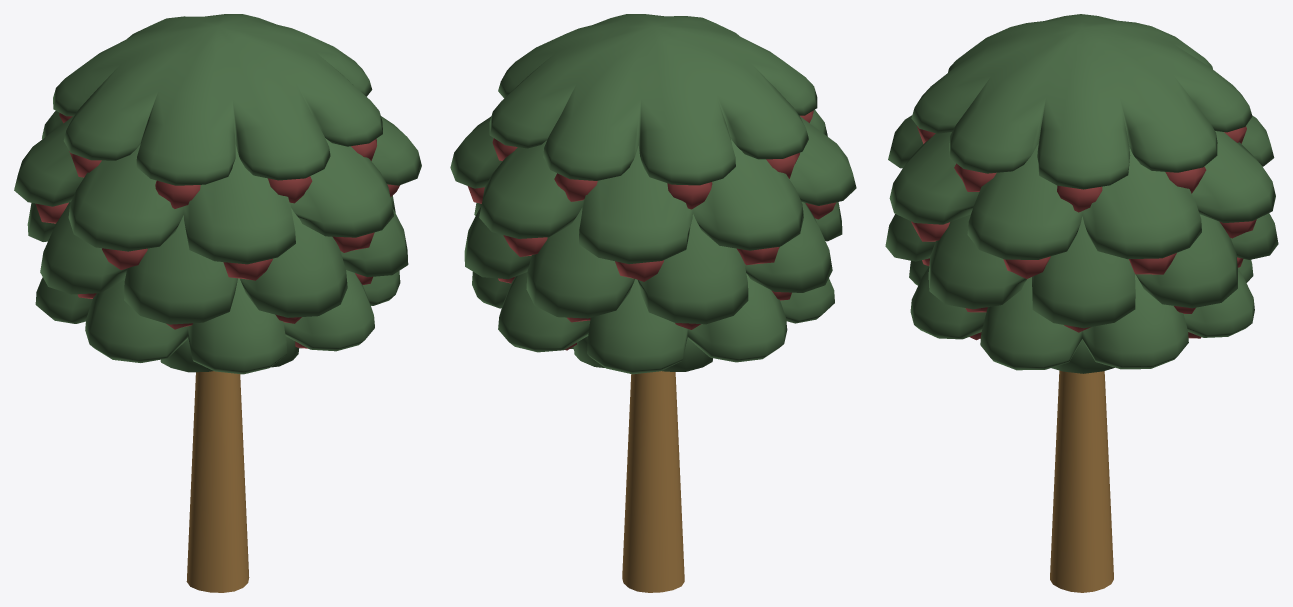
File: Tree_Fruit_002.gltf
3 renders of one model, left to right at view 1: azimuth 30°, elevation 25°; view 2: azimuth 150°, elevation 25°; view 3: azimuth 270°, elevation 25°, orthographic.
Visible parts, largest first — view 1: Tree_Fruit.002; view 2: Tree_Fruit.002; view 3: Tree_Fruit.002.
Boxes of the visible parts, x1=… form: Tree_Fruit.002: x1=14, y1=14, x2=421, y2=592; Tree_Fruit.002: x1=450, y1=14, x2=856, y2=592; Tree_Fruit.002: x1=885, y1=14, x2=1278, y2=592.
Bounding box in the file's own units: 4.15 × 6.43 × 4.15.
